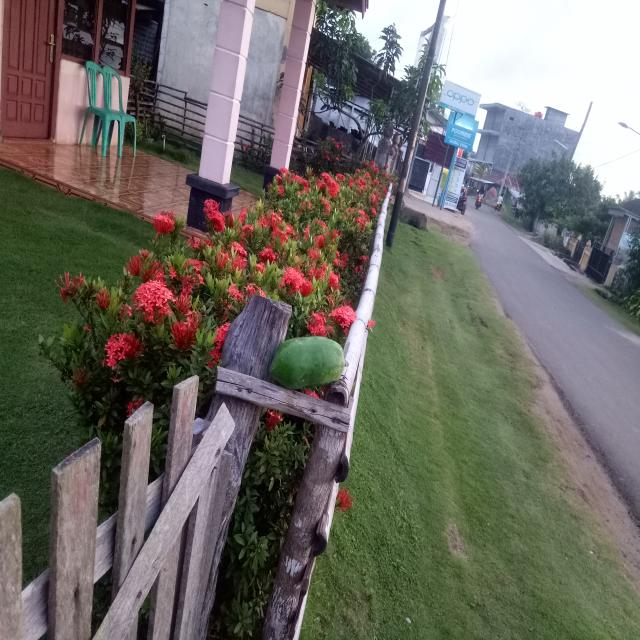Pepaya unrippen: (266, 324, 348, 394)
